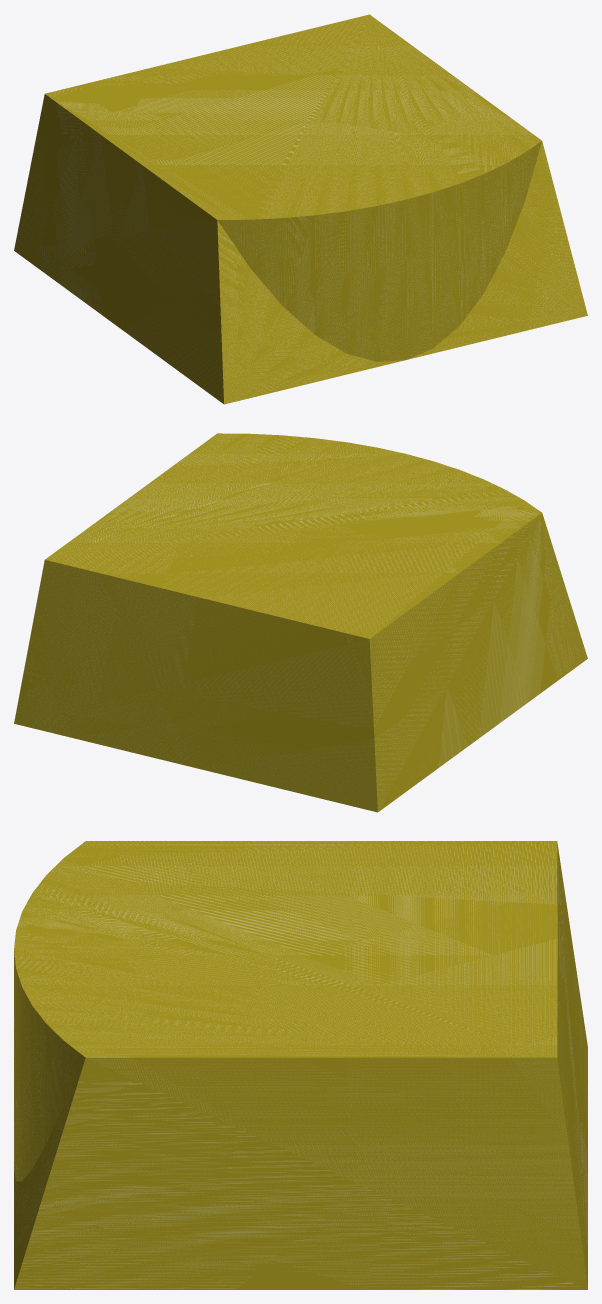
Rendered from original-65.obj.
3 renders of one model, top to bottom at view 1: azimuth 30°, elevation 25°; view 2: azimuth 150°, elevation 25°; view 3: azimuth 270°, elevation 25°, orthographic. The views are drawn at different scales.
Parts seen in each view (by area): view 1: Gray_Single_Keycap60/Gray_Single_Keycap/mesh8/mesh8-geometry#mes; view 2: Gray_Single_Keycap60/Gray_Single_Keycap/mesh8/mesh8-geometry#mes; view 3: Gray_Single_Keycap60/Gray_Single_Keycap/mesh8/mesh8-geometry#mes.
Boxes of the visible parts, x1=… form: Gray_Single_Keycap60/Gray_Single_Keycap/mesh8/mesh8-geometry#mes: x1=14, y1=14, x2=587, y2=404; Gray_Single_Keycap60/Gray_Single_Keycap/mesh8/mesh8-geometry#mes: x1=14, y1=433, x2=587, y2=812; Gray_Single_Keycap60/Gray_Single_Keycap/mesh8/mesh8-geometry#mes: x1=14, y1=841, x2=587, y2=1289.
Bounding box in the file's own units: 0.0973 × 0.041 × 0.0973.
